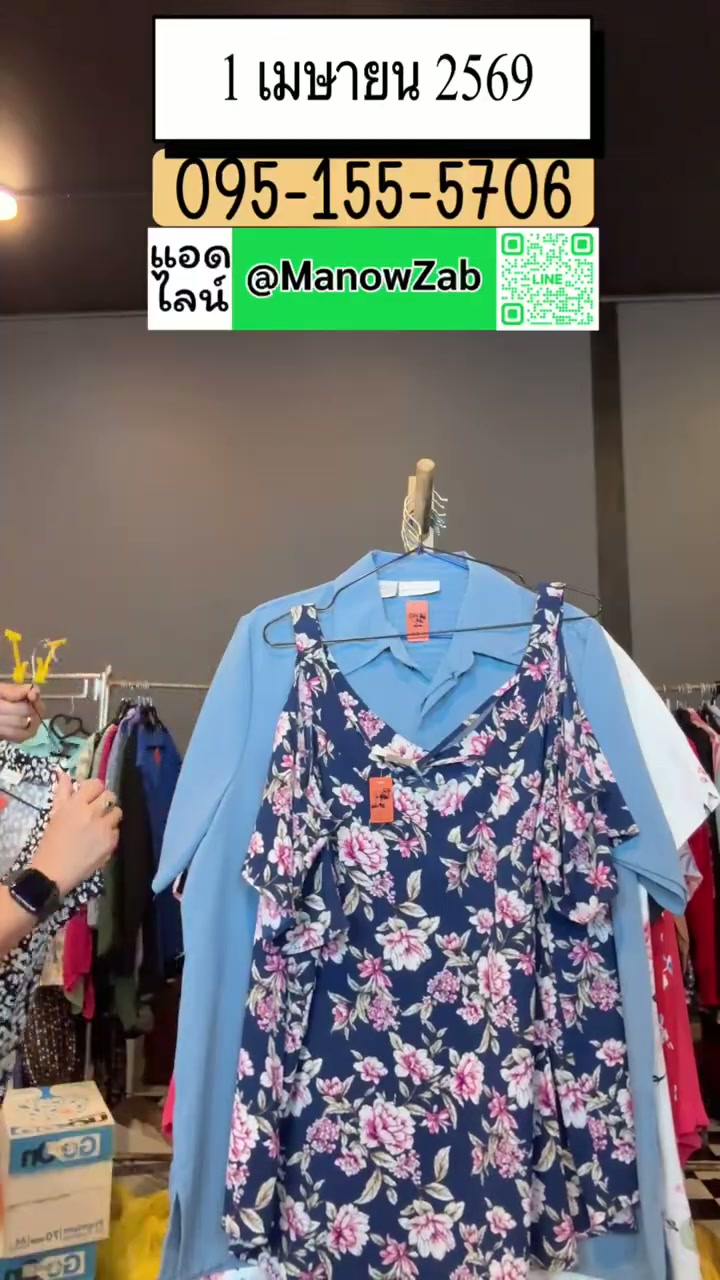display_shirt: (222, 584, 639, 1279)
